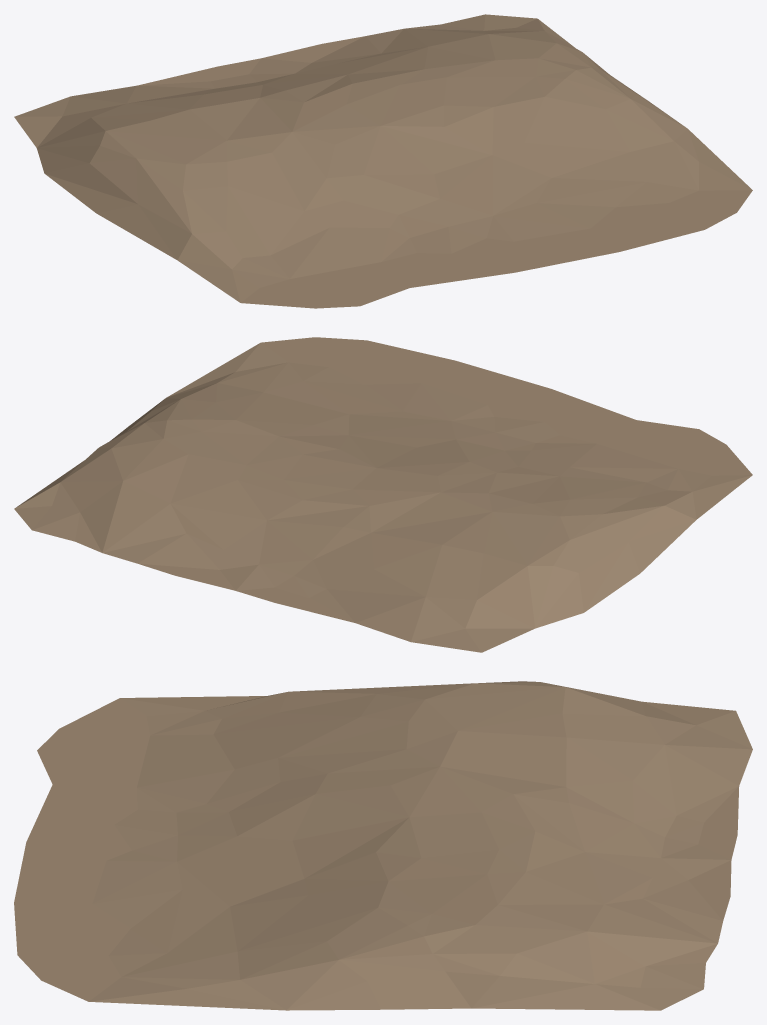
Rendered from SM_Env_Ground_Hill_Slope_01.glb.
3 views of the same model, one above another, from view 1: azimuth 30°, elevation 25°; view 2: azimuth 150°, elevation 25°; view 3: azimuth 270°, elevation 25° (orthographic). The views are drawn at different scales.
Parts seen in each view (by area): view 1: SM_Env_Ground_Hill_Slope_01; view 2: SM_Env_Ground_Hill_Slope_01; view 3: SM_Env_Ground_Hill_Slope_01.
Boxes of the visible parts, left/top/right/bottom form: SM_Env_Ground_Hill_Slope_01: left=14, top=14, right=752, bottom=308; SM_Env_Ground_Hill_Slope_01: left=14, top=337, right=752, bottom=652; SM_Env_Ground_Hill_Slope_01: left=14, top=681, right=752, bottom=1010.
Bounding box in the file's own units: 16.63 × 0.9941 × 16.1.
1 material, 1 textured.
